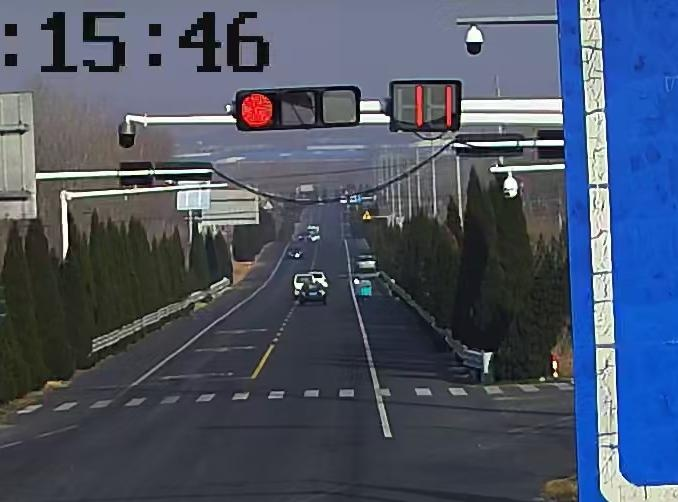red: (238, 92, 275, 129)
redtime: (406, 82, 463, 130)
